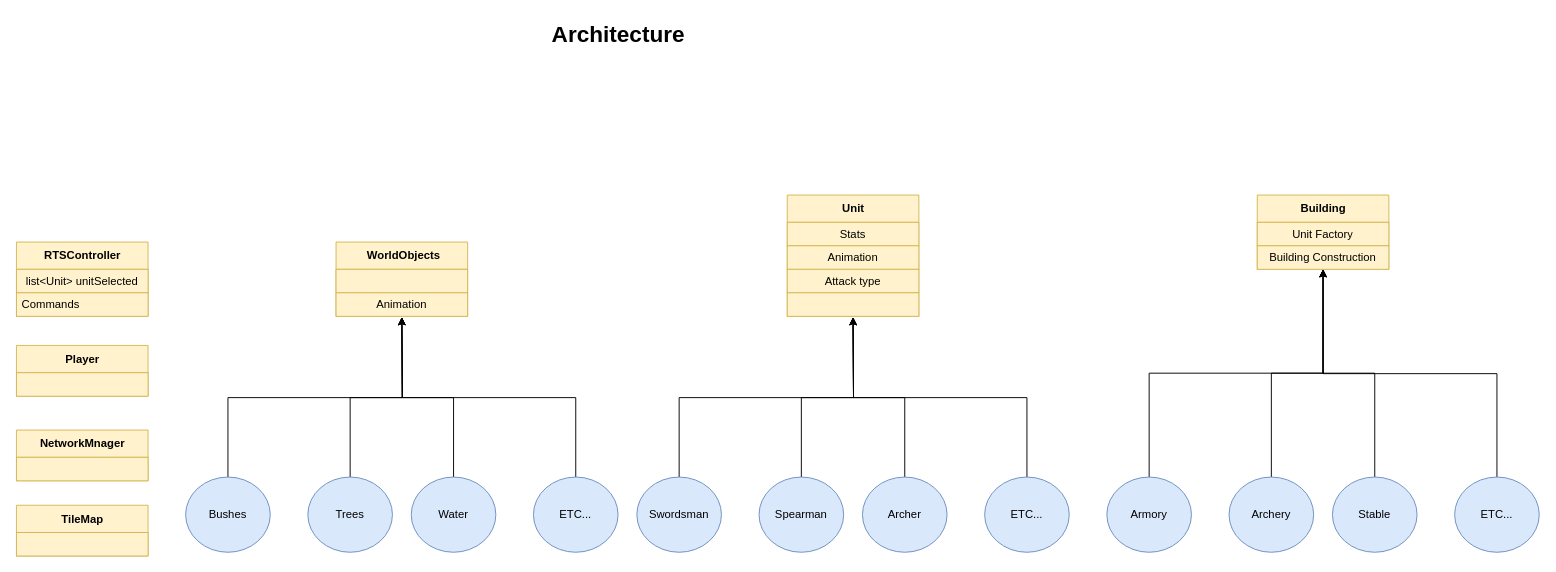
Some shapes in this 1556 by 572 pixel diagram are drawn without their labels. Here are the shapes that lost their labels. From the top down, the centre of each, then its label:
the point at 401,280: Effects
the point at 852,304: Nav Mash
the point at 82,384: Resources
the point at 82,468: Players
the point at 82,544: World tiles
